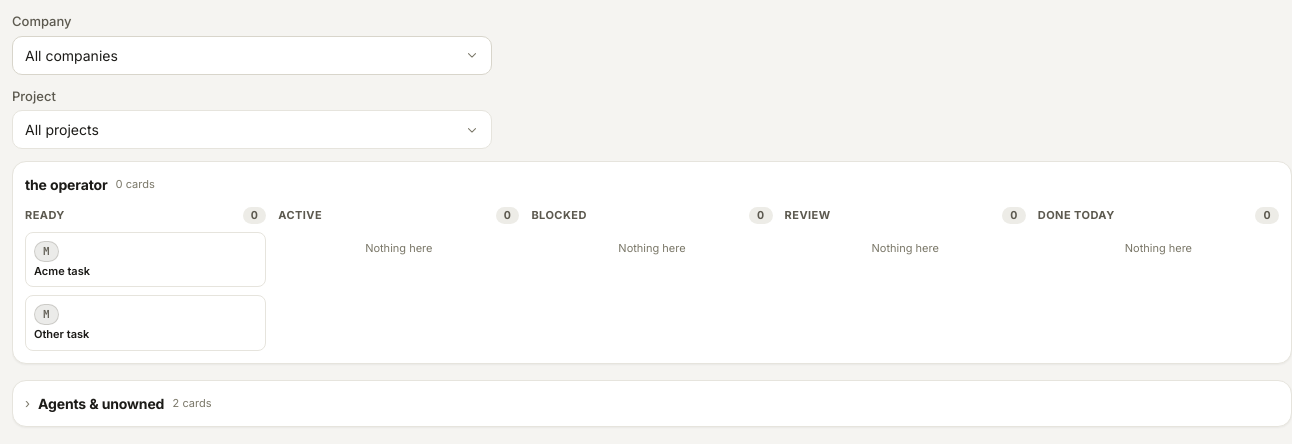
it: TeamBoard company filter › shows everything again once the filter is reset to All companies
The image size is (1292, 444).
Click the button with aria-label "Company" at (71, 55), box 12,36 -> 492,74
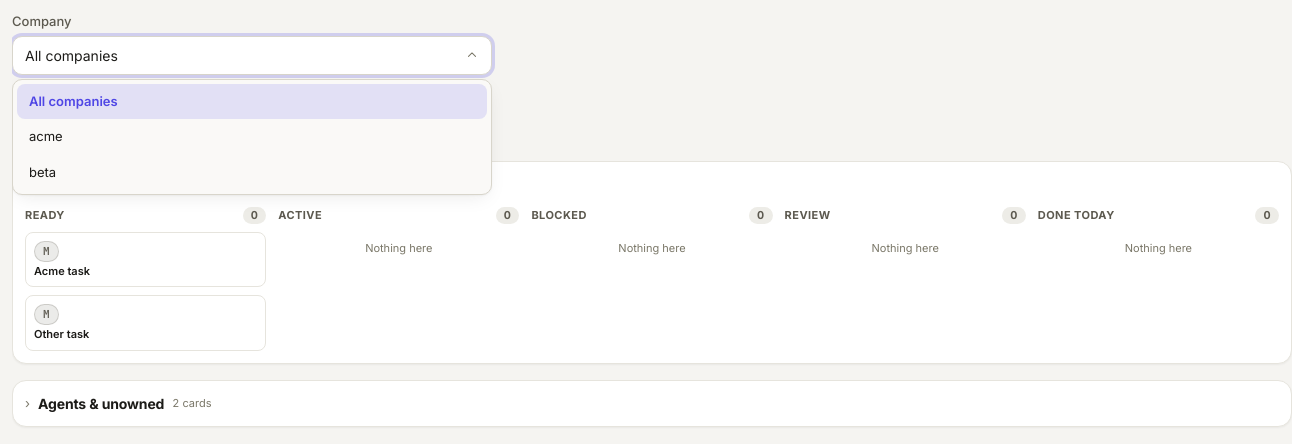
Click the option "acme" at (46, 136), box 29,128 -> 63,144
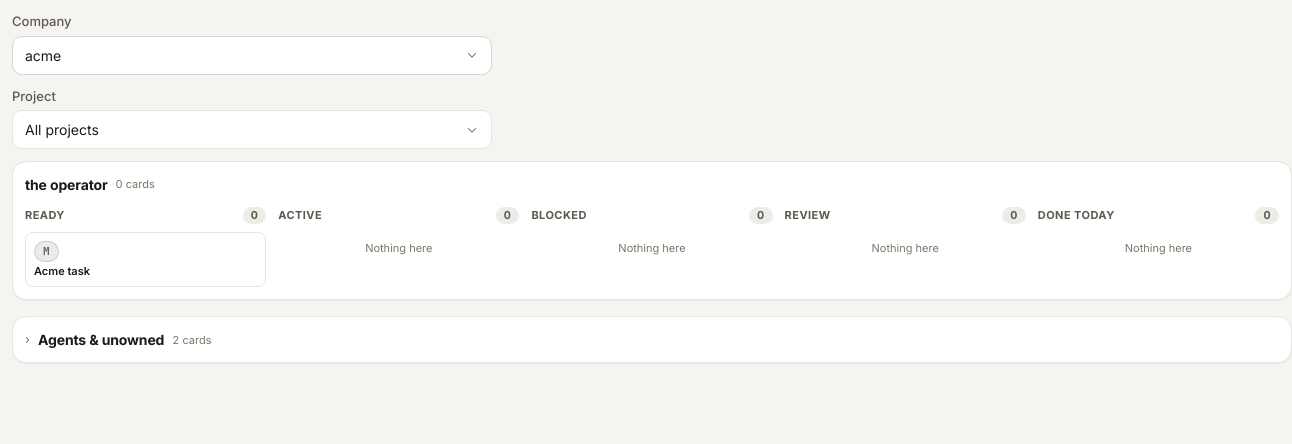
Expected: the button "Other task" is gone
Click the button with aria-label "Company" at (43, 55), box 12,36 -> 492,74
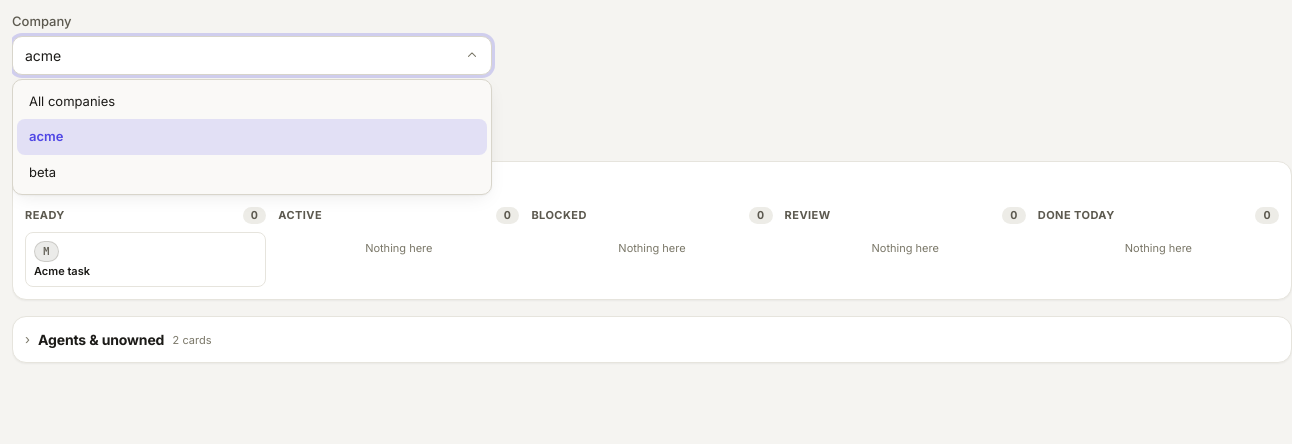
Click the option "All companies" at (72, 100), box 29,92 -> 115,108
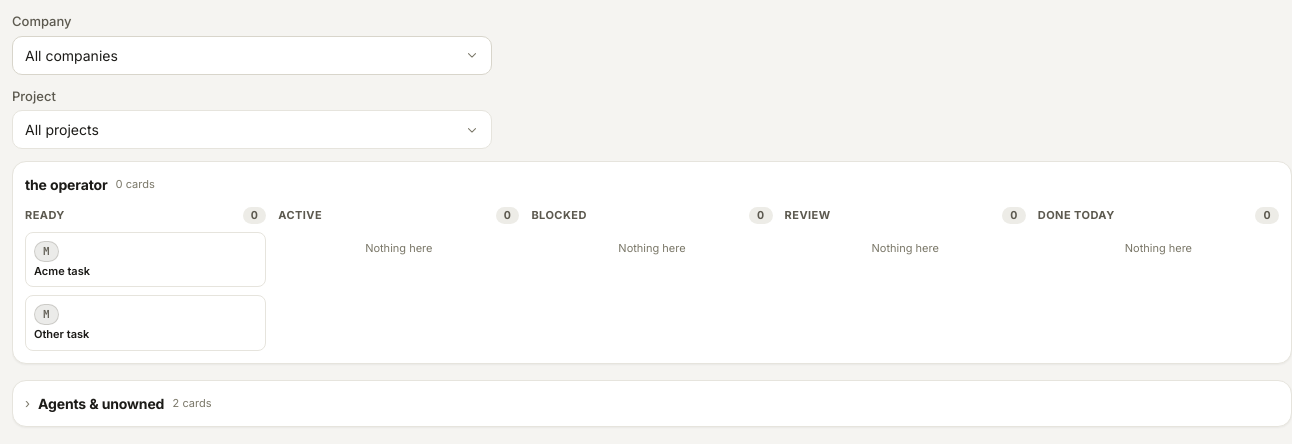
Expected: the text "Acme task" is shown, 34,264 -> 90,278
Expected: the text "Other task" is shown, 34,327 -> 89,341
